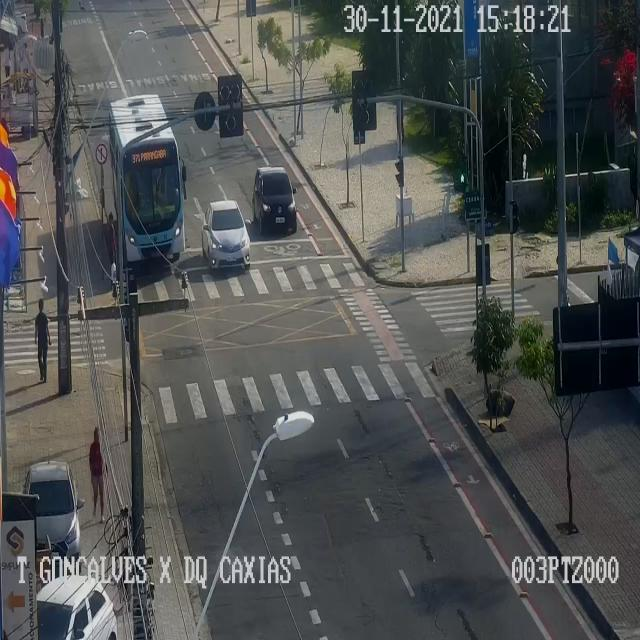Bus: (109, 94, 185, 262)
Car: (24, 462, 80, 572), (36, 574, 116, 639), (202, 200, 250, 268), (252, 166, 296, 232)
